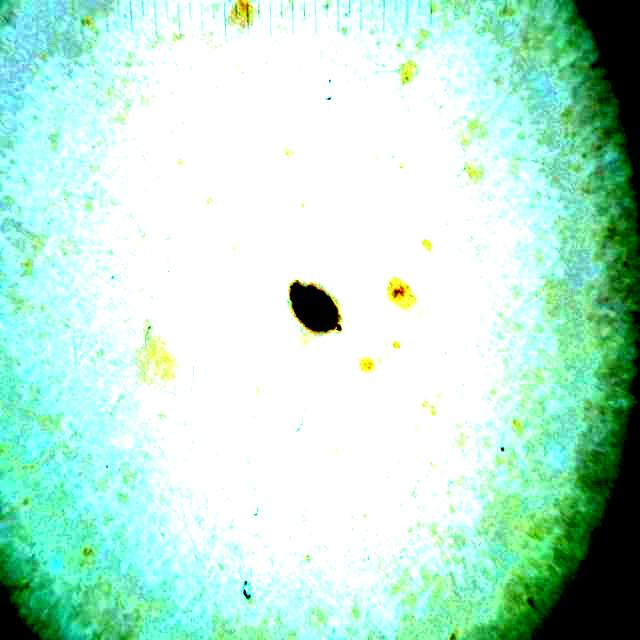NV: (291, 282, 340, 331)
